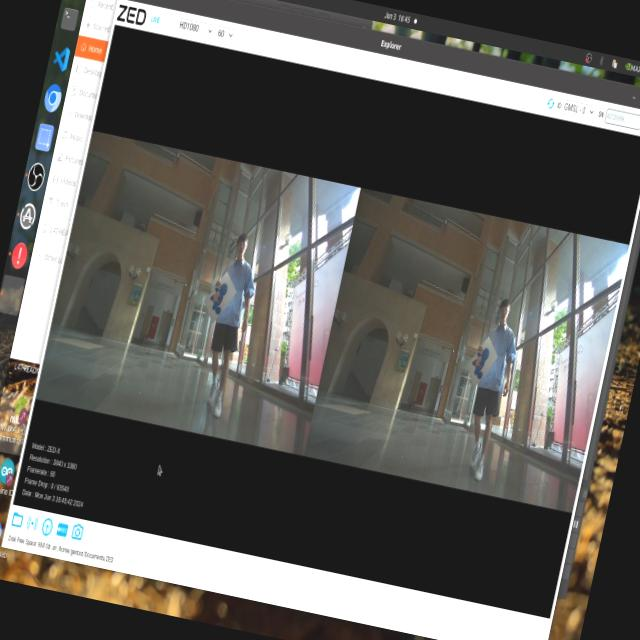blue: (468, 343, 492, 382), (210, 278, 228, 312)
